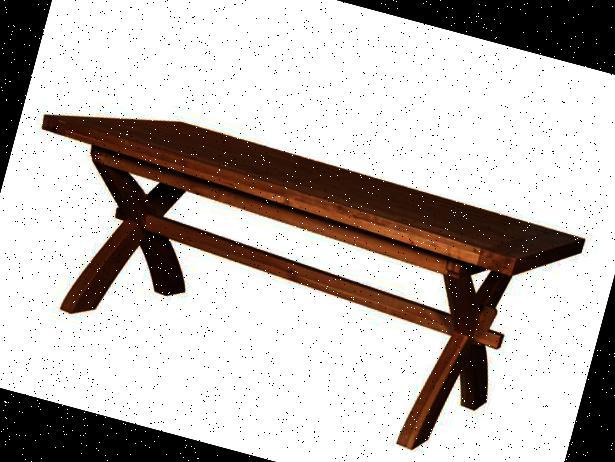Mesa: (0, 86, 586, 461)
